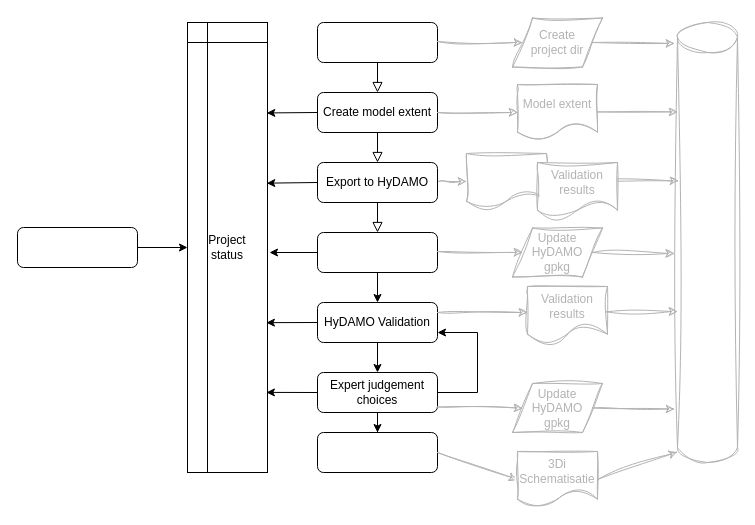
This 755x525 diagram has some shape labels left out. Each missing label, with the centre of its shape:
"Choose existing project directory" belongs at pixel 77 247.
"Convert to base schematisation" belongs at pixel 377 452.
"Create project directory" belongs at pixel 377 42.
"Fill missing values" belongs at pixel 377 252.
"HyDAMO gpkg" belongs at pixel 506 181.
"Project directory" belongs at pixel 707 242.
